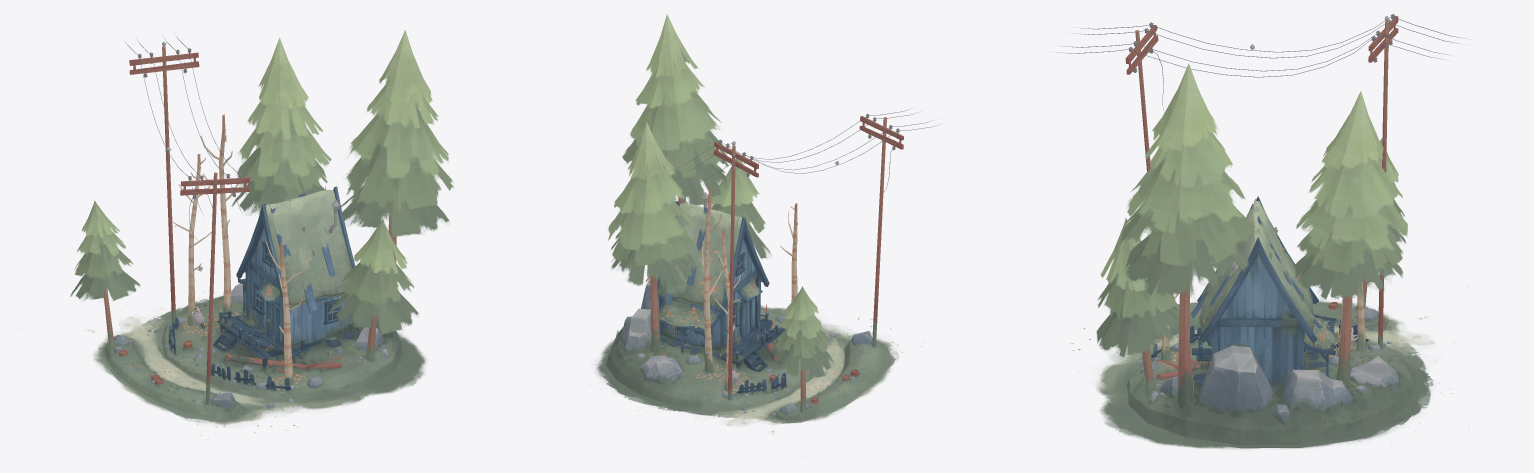
Rendered from forest-house-transformed.glb.
The picture shows the model from 3 angles, left to right: view 1: azimuth 30°, elevation 25°; view 2: azimuth 150°, elevation 25°; view 3: azimuth 270°, elevation 25°; orthographic projection. The views are drawn at different scales.
Visible parts, largest first — view 1: RedwoodAlpha_TreeLeafs_0, Ground_Ground_0, SideRoofBase_RoofMoss_0, GroundPlane_Plane_0, FenceRight_WoodFence_0, BTree.001_BrichTree_0, House_House_0, HouseFence_WoodPlanks_0, SmallRocks_BigRock_0, TallGrass_GrassALPHA_0, Windows.001_Window_0; view 2: RedwoodAlpha_TreeLeafs_0, Ground_Ground_0, SideRoofBase_RoofMoss_0, GroundPlane_Plane_0, FenceRight_WoodFence_0, BTree.001_BrichTree_0, House_House_0, SmallRocks_BigRock_0, TallGrass_GrassALPHA_0, HouseFence_WoodPlanks_0, Windows.001_Window_0; view 3: RedwoodAlpha_TreeLeafs_0, Ground_Ground_0, SmallRocks_BigRock_0, House_House_0, GroundPlane_Plane_0, SideRoofBase_RoofMoss_0, FenceRight_WoodFence_0, BTree.001_BrichTree_0, TallGrass_GrassALPHA_0, HouseFence_WoodPlanks_0.
Boxes of the visible parts, x1,y1,x2,y2 form: RedwoodAlpha_TreeLeafs_0: [70, 30, 453, 335]; Ground_Ground_0: [105, 296, 402, 419]; SideRoofBase_RoofMoss_0: [237, 189, 352, 313]; GroundPlane_Plane_0: [88, 292, 426, 439]; FenceRight_WoodFence_0: [118, 46, 290, 404]; BTree.001_BrichTree_0: [94, 114, 396, 385]; House_House_0: [236, 186, 355, 346]; HouseFence_WoodPlanks_0: [213, 310, 354, 370]; SmallRocks_BigRock_0: [110, 283, 388, 414]; TallGrass_GrassALPHA_0: [107, 36, 394, 412]; Windows.001_Window_0: [243, 241, 341, 324]; RedwoodAlpha_TreeLeafs_0: [608, 14, 834, 377]; Ground_Ground_0: [606, 308, 884, 423]; SideRoofBase_RoofMoss_0: [651, 192, 762, 334]; GroundPlane_Plane_0: [595, 305, 924, 433]; FenceRight_WoodFence_0: [713, 113, 903, 403]; BTree.001_BrichTree_0: [645, 186, 806, 413]; House_House_0: [657, 201, 769, 350]; SmallRocks_BigRock_0: [619, 275, 876, 416]; TallGrass_GrassALPHA_0: [613, 109, 940, 417]; HouseFence_WoodPlanks_0: [660, 303, 785, 371]; Windows.001_Window_0: [659, 252, 745, 359]; RedwoodAlpha_TreeLeafs_0: [1096, 63, 1407, 358]; Ground_Ground_0: [1127, 302, 1415, 448]; SmallRocks_BigRock_0: [1135, 305, 1400, 426]; House_House_0: [1197, 196, 1318, 386]; GroundPlane_Plane_0: [1069, 300, 1454, 448]; SideRoofBase_RoofMoss_0: [1190, 201, 1335, 355]; FenceRight_WoodFence_0: [1125, 14, 1398, 358]; BTree.001_BrichTree_0: [1142, 228, 1372, 406]; TallGrass_GrassALPHA_0: [1056, 17, 1465, 429]; HouseFence_WoodPlanks_0: [1191, 336, 1325, 385].
Size of the model in its own units: 0.1447 by 0.1437 by 0.1766.
12 materials, 12 textured.
